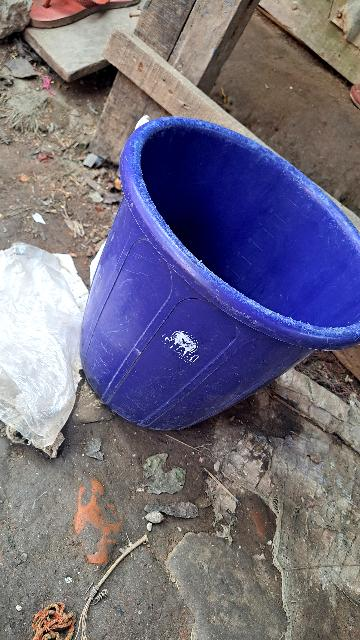hardplastic: (0, 108, 360, 476)
